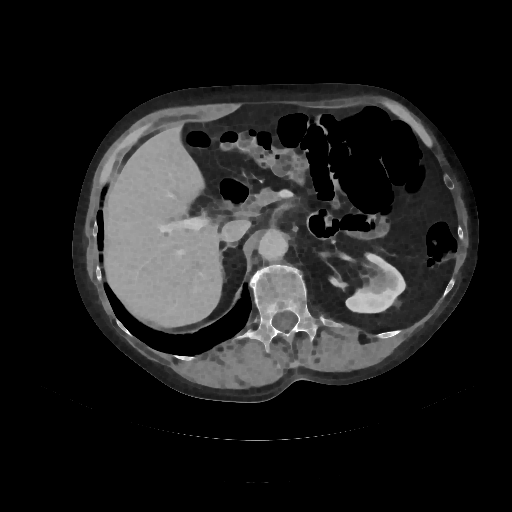Lesion: (365, 272, 389, 297)
